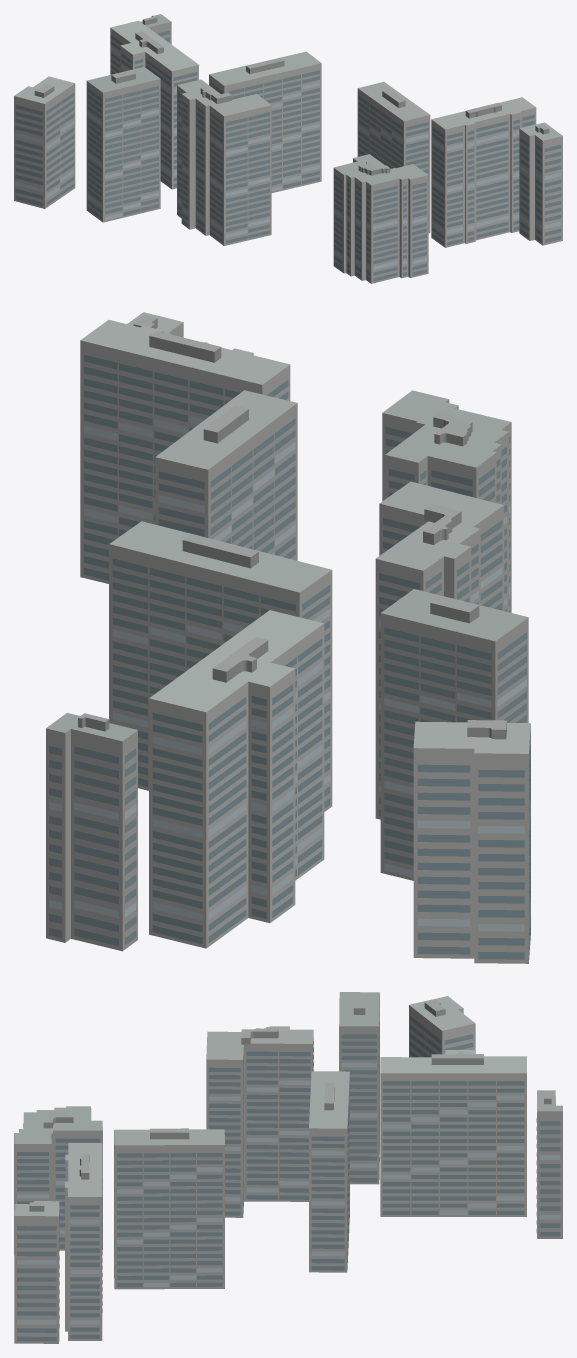
Rendered from apt-a13085301.glb.
3 renders of one model, top to bottom at view 1: azimuth 30°, elevation 25°; view 2: azimuth 150°, elevation 25°; view 3: azimuth 270°, elevation 25°, orthographic. The views are drawn at different scales.
Visible parts, largest first — view 1: apt-a13085301; view 2: apt-a13085301; view 3: apt-a13085301.
Boxes of the visible parts, bbox=[...] form: apt-a13085301: bbox=[14, 14, 562, 283]; apt-a13085301: bbox=[46, 312, 530, 963]; apt-a13085301: bbox=[14, 992, 562, 1343].
Size of the model in its own units: 169 by 59 by 178.
